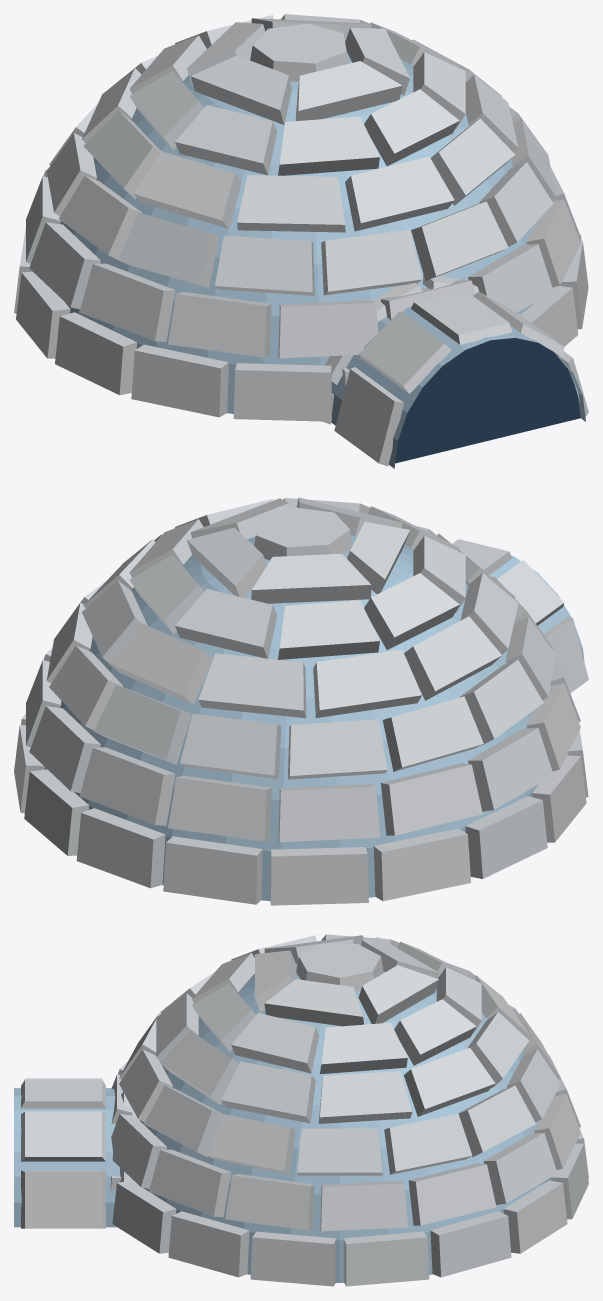
File: igloo.glb
3 views of the same model, one above another, from view 1: azimuth 30°, elevation 25°; view 2: azimuth 150°, elevation 25°; view 3: azimuth 270°, elevation 25° (orthographic). The views are drawn at different scales.
Parts seen in each view (by area): view 1: igloo; view 2: igloo; view 3: igloo.
Boxes of the visible parts, left/top/right/bottom form: igloo: left=14, top=14, right=588, bottom=468; igloo: left=14, top=497, right=588, bottom=905; igloo: left=14, top=934, right=588, bottom=1286.
Size of the model in its own units: 0.6416 by 0.3227 by 0.7408.
